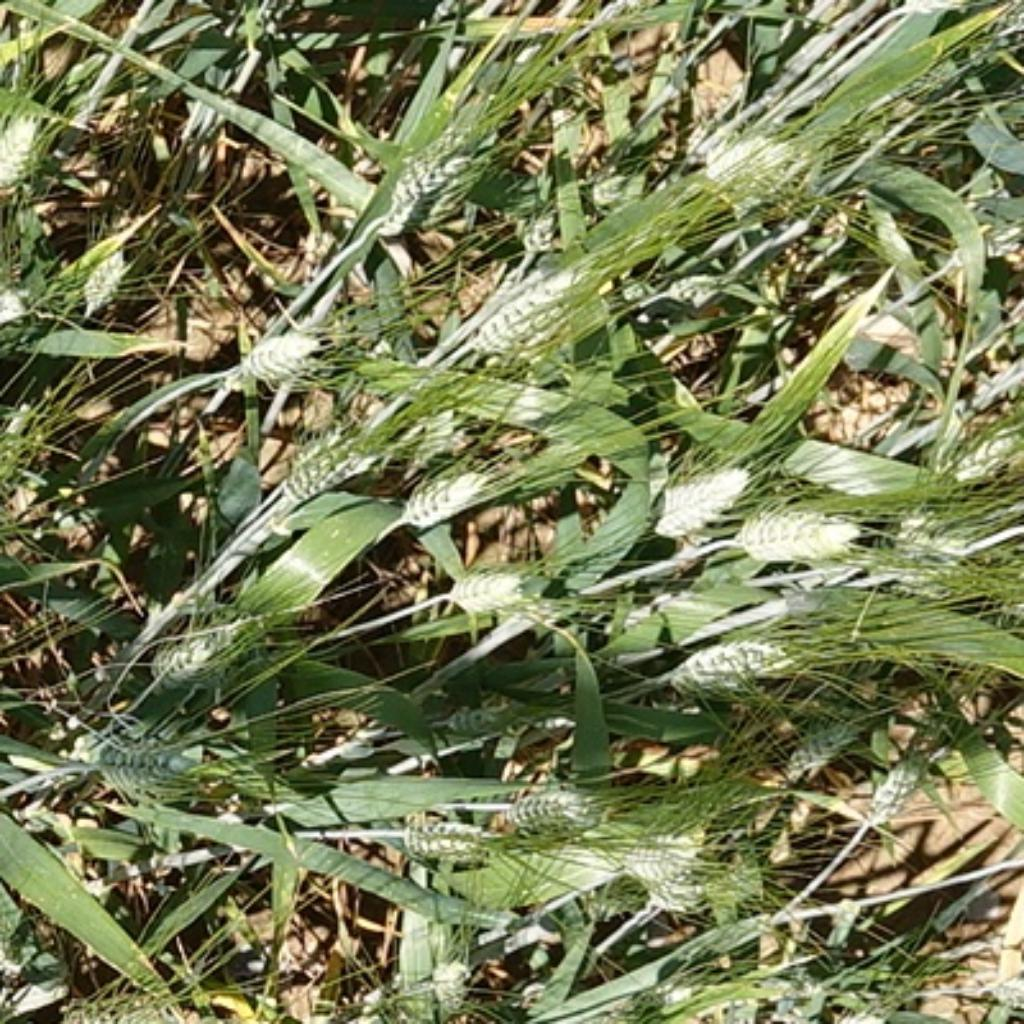0-0: (363, 84, 509, 232), (688, 102, 824, 212), (508, 154, 631, 267), (885, 494, 1021, 593), (458, 266, 601, 360), (268, 412, 396, 509), (61, 711, 209, 793), (142, 604, 261, 703), (637, 844, 768, 926), (657, 619, 796, 693), (648, 462, 751, 543), (731, 498, 861, 562), (430, 680, 558, 744), (222, 307, 327, 384), (852, 732, 944, 819), (494, 770, 609, 839), (611, 819, 706, 898), (401, 465, 506, 536), (780, 688, 870, 770), (435, 552, 550, 616), (944, 409, 1024, 491), (402, 943, 482, 1024), (384, 806, 494, 860), (0, 109, 55, 198), (665, 261, 731, 319), (76, 248, 127, 322)
